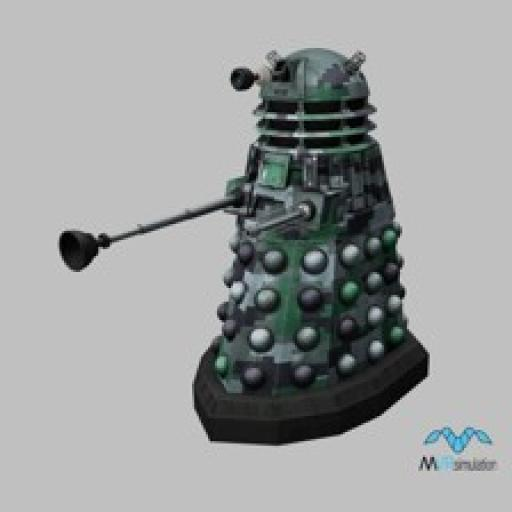dalek: (52, 46, 430, 446)
